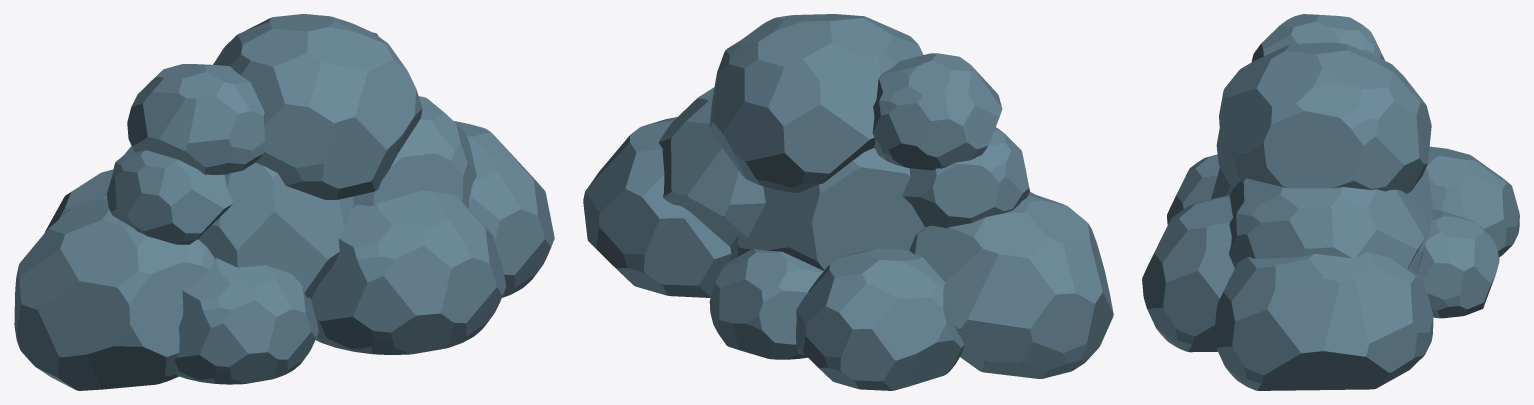
The model's file is Boulder.fbx.
3 renders of one model, left to right at view 1: azimuth 30°, elevation 25°; view 2: azimuth 150°, elevation 25°; view 3: azimuth 270°, elevation 25°, orthographic. The views are drawn at different scales.
Parts seen in each view (by area): view 1: Boulder; view 2: Boulder; view 3: Boulder.
Boxes of the visible parts, left/top/right/bottom form: Boulder: left=14, top=14, right=554, bottom=390; Boulder: left=583, top=14, right=1113, bottom=390; Boulder: left=1142, top=14, right=1519, bottom=390.
Bounding box in the file's own units: 1030 × 559 × 714.
